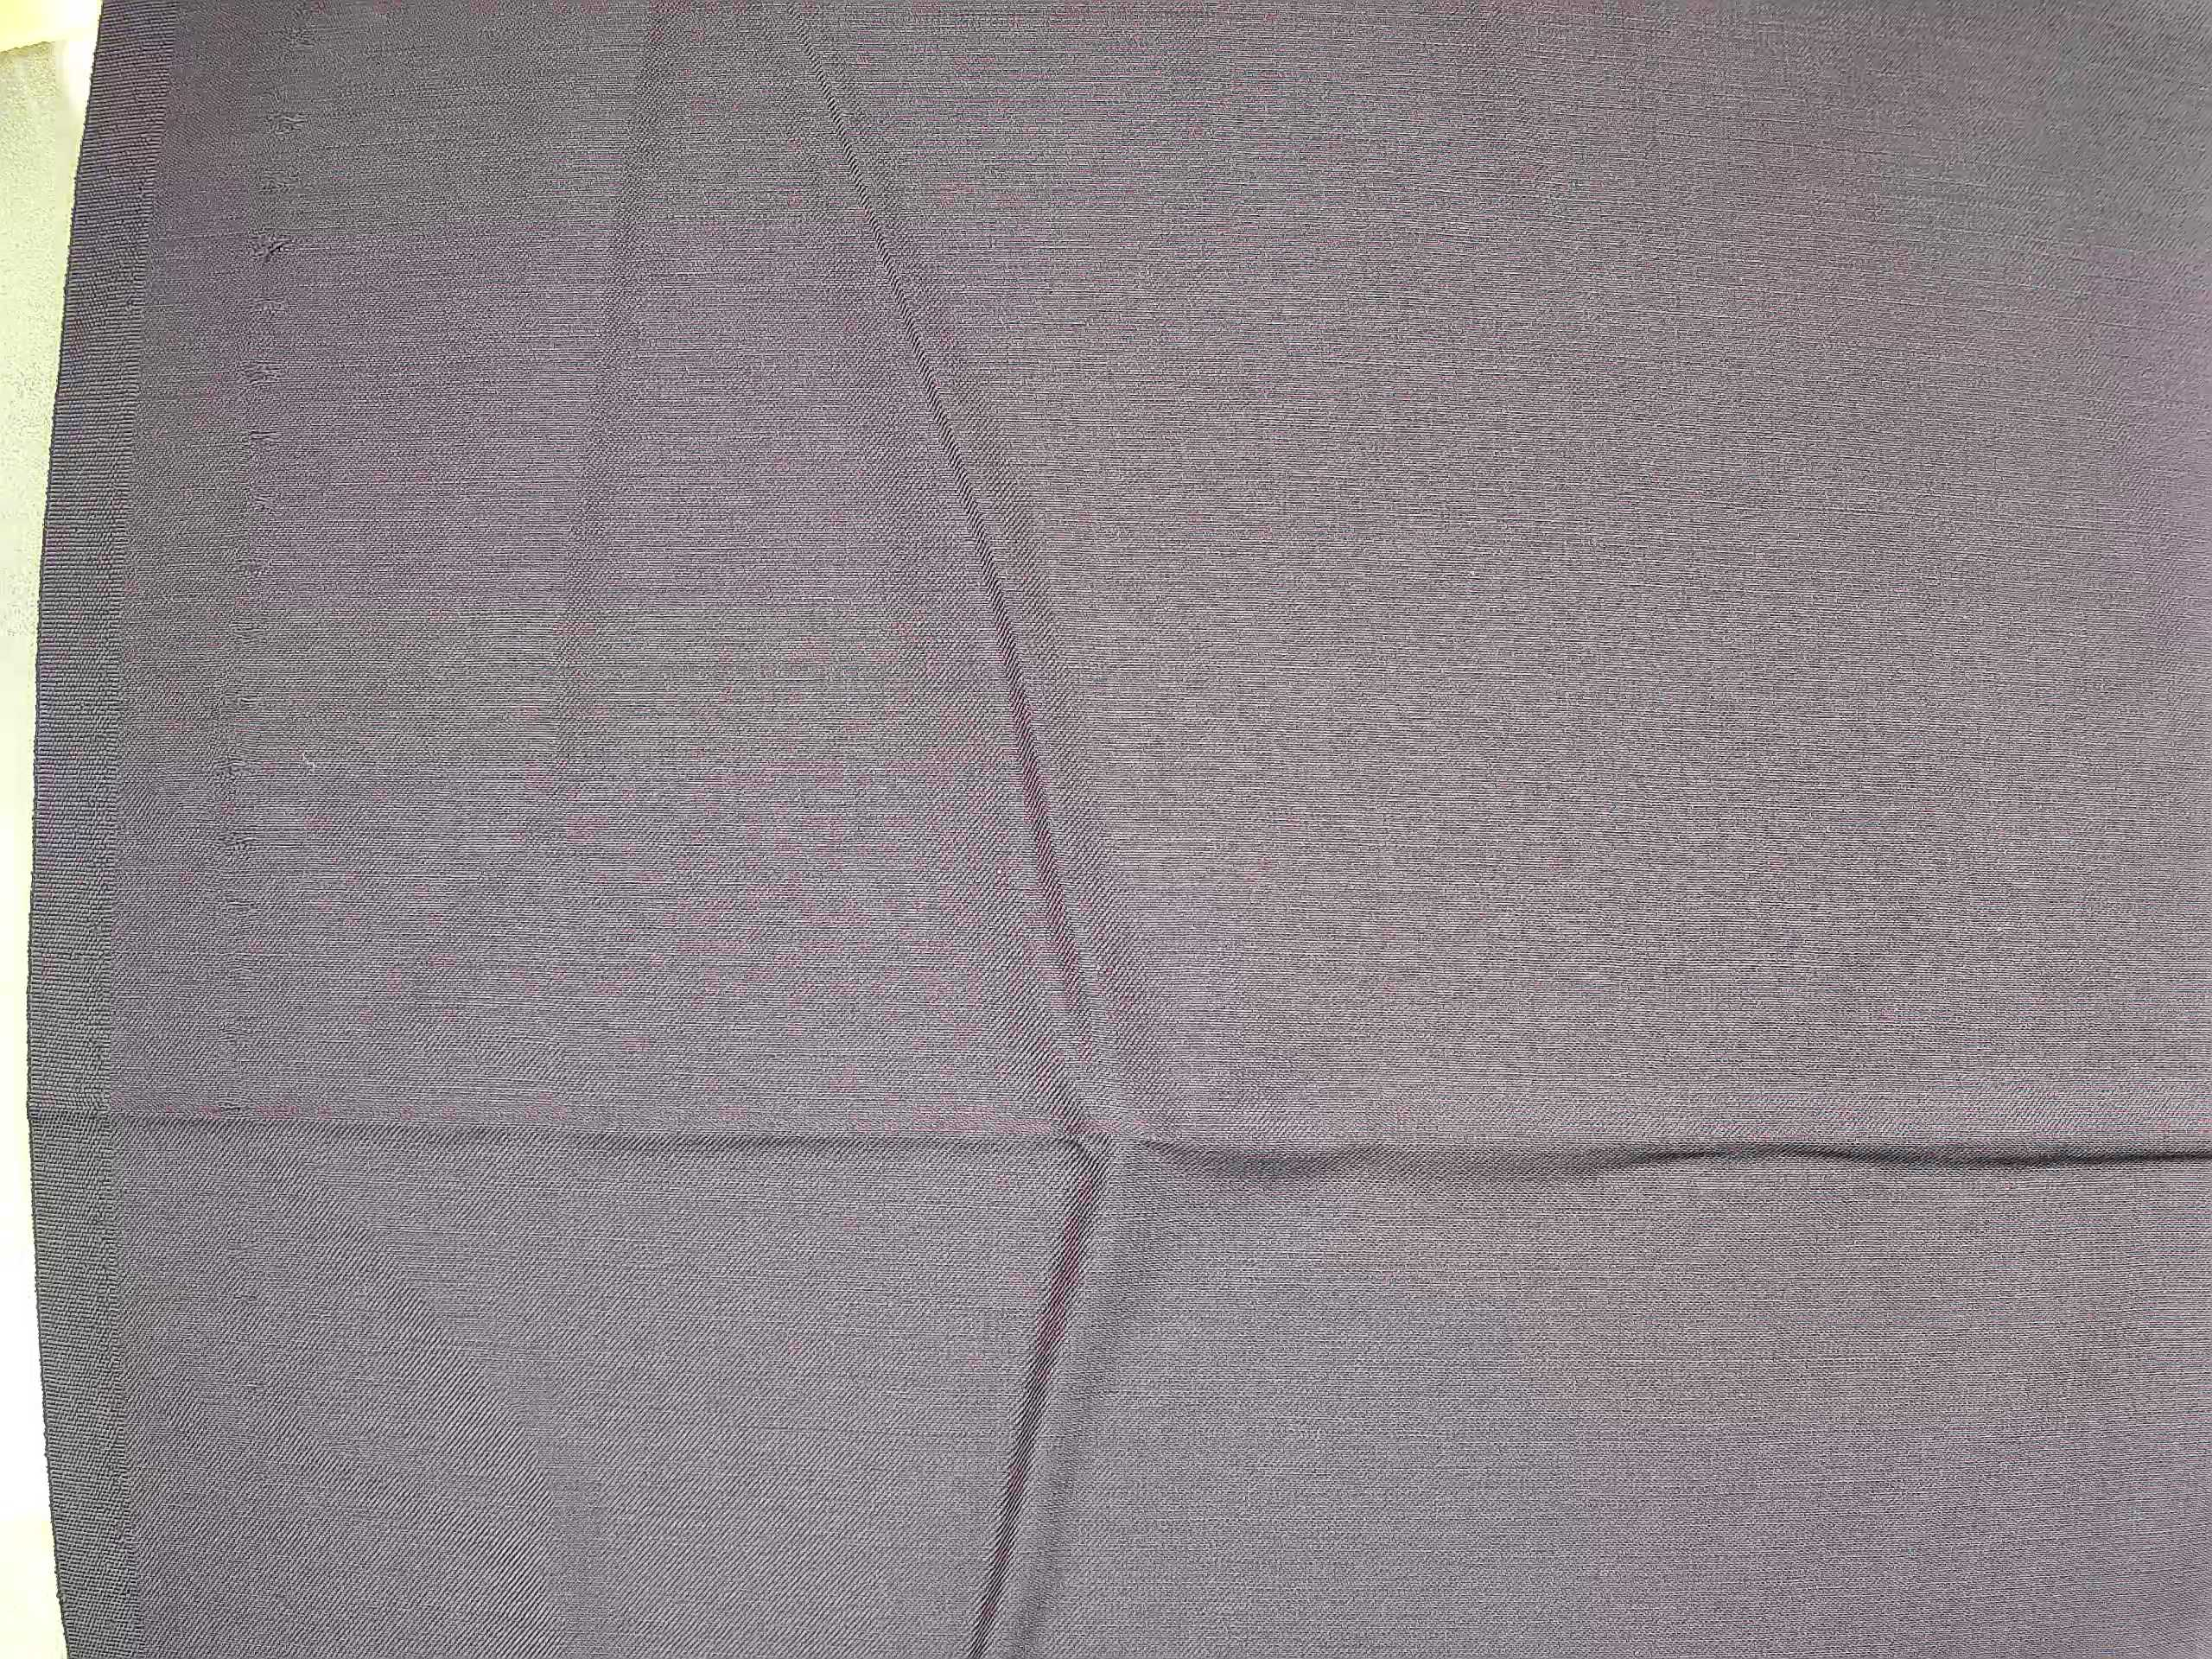puncture-hole: (206, 82, 314, 936)
